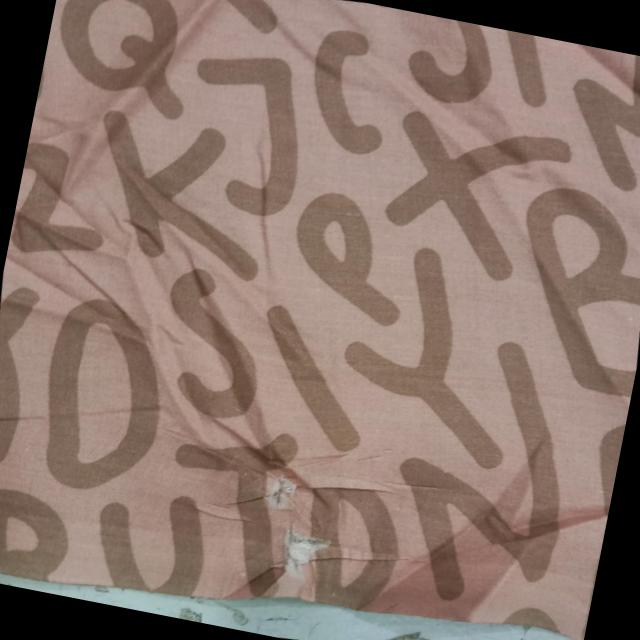cut: (204, 432, 410, 614)
